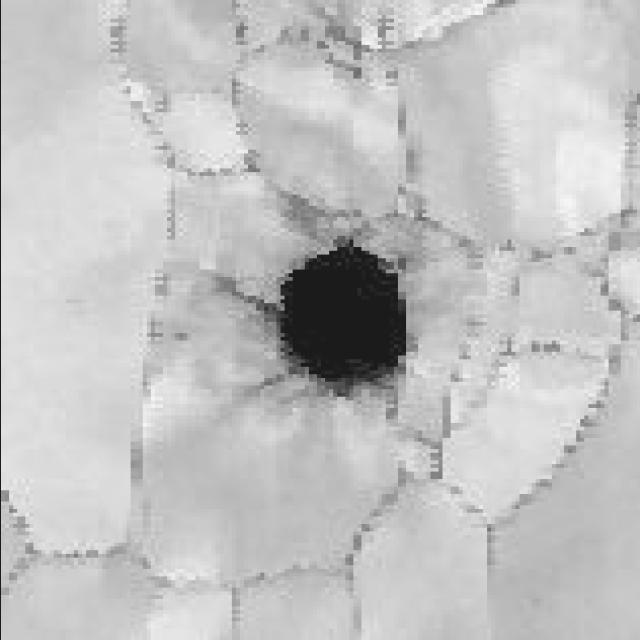good_void: (217, 238, 414, 400)
